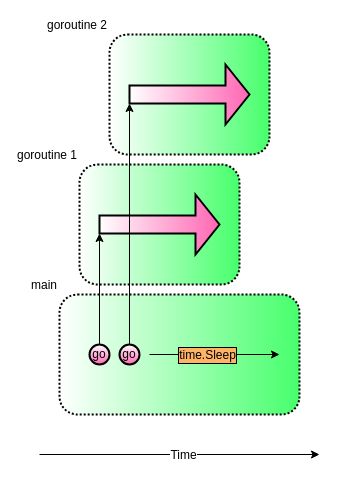
Some shapes in this 345 by 480 pixel diagram are drawn without their labels. Each missing label, with the centre of its shape:
say("hello"): point 189,94
say("world"): point 159,224
